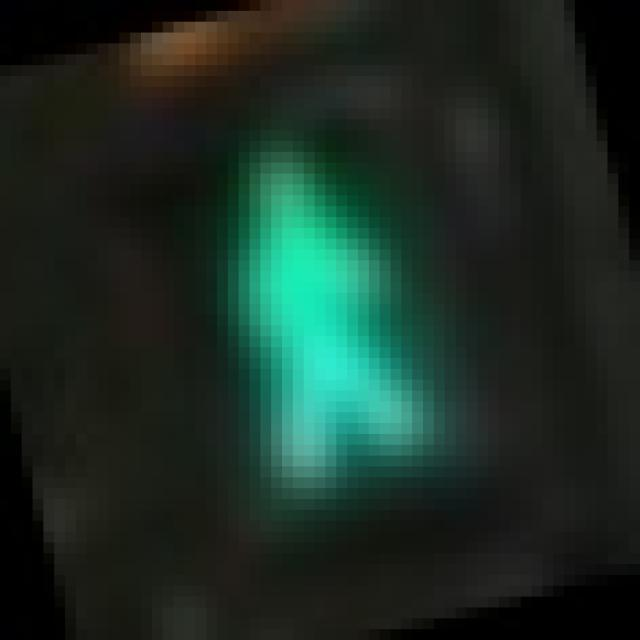green_light: (108, 55, 499, 542)
